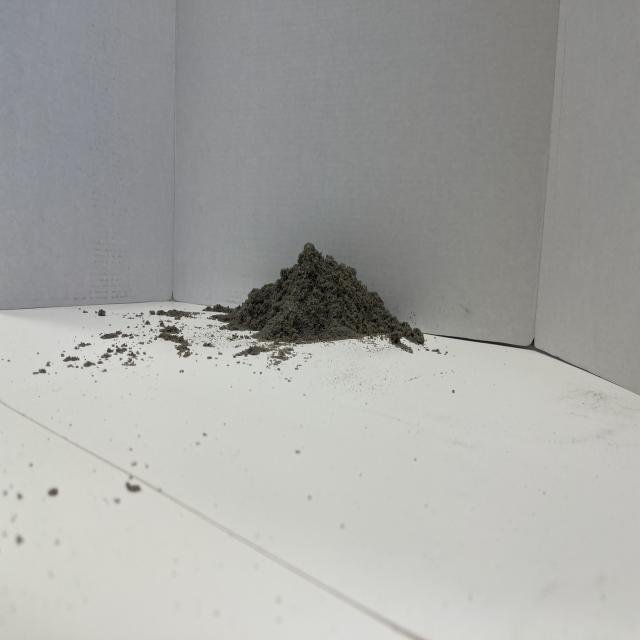sand: (224, 228, 404, 355)
